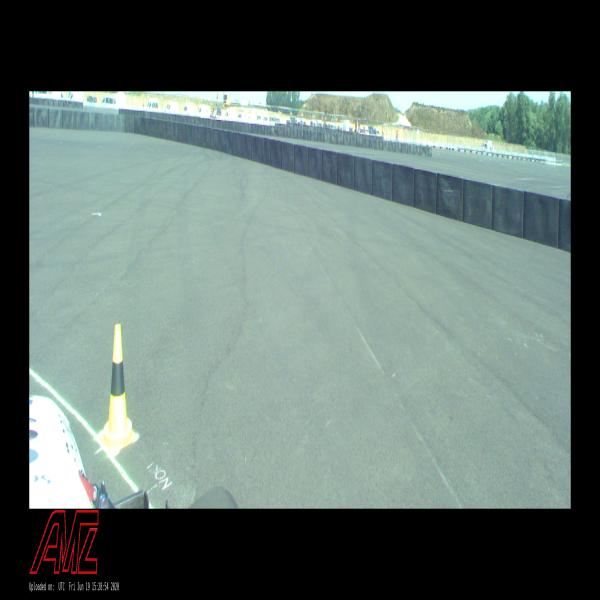yellow_cone: (100, 324, 138, 454)
